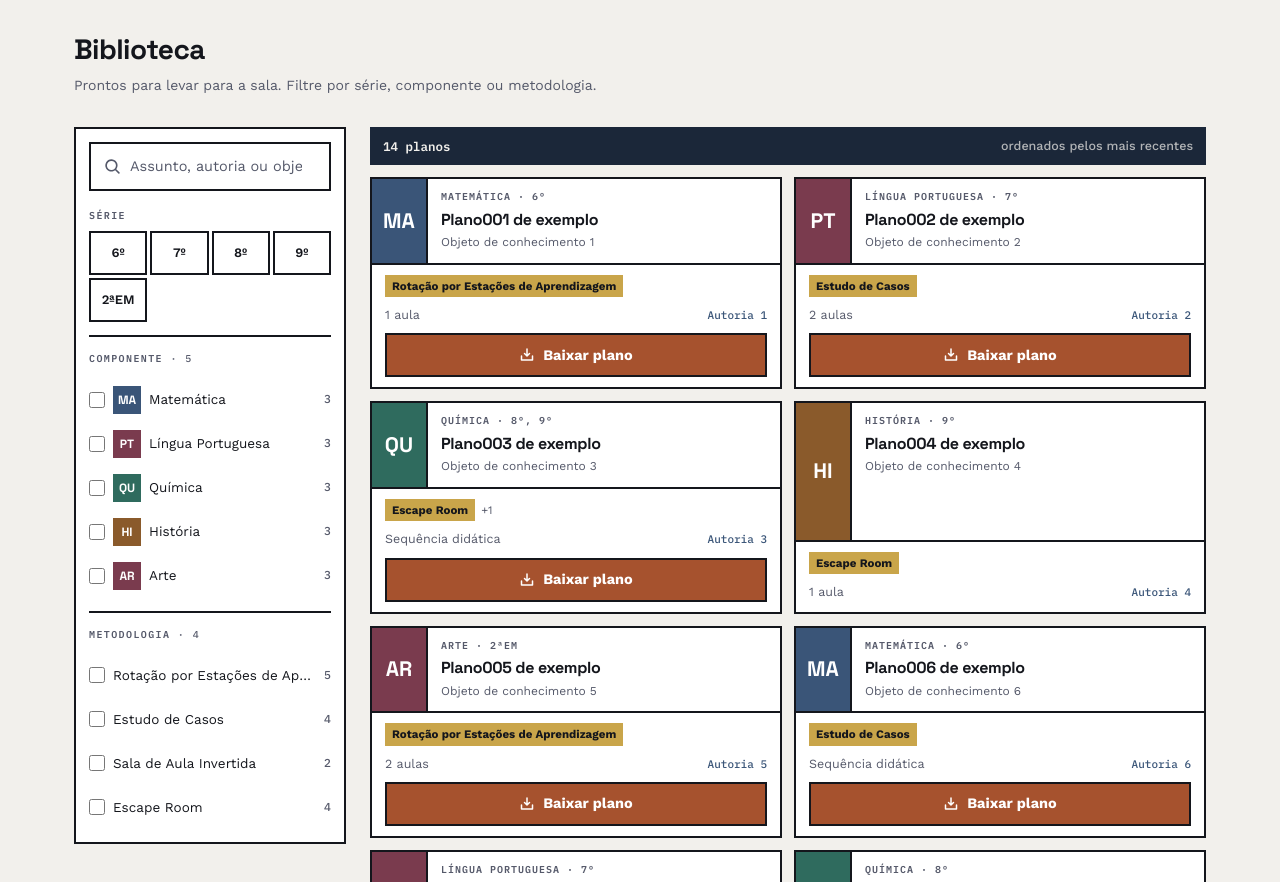
Scenario: PaginaBiblioteca › filtrar por DUAS séries traz o plano de qualquer uma das duas (OU dentro do grupo)
Expected: the text "14 planos" is shown, x1=383 y1=137 x2=450 y2=155
Click the button named "6º ano do Ensino Fundamental" at point(118, 253), box x1=89 y1=231 x2=147 y2=275
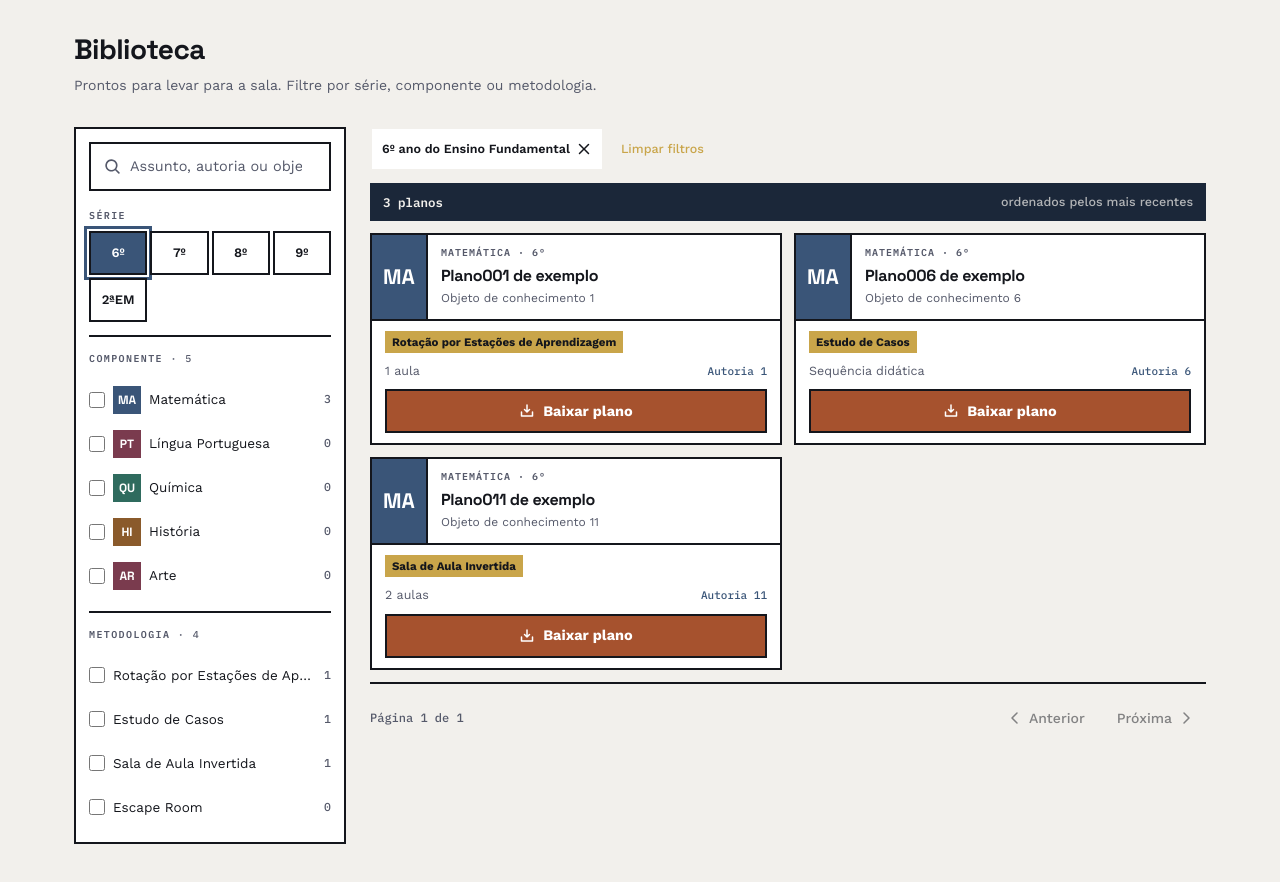
Click the button named "7º ano do Ensino Fundamental" at point(179, 253), box x1=150 y1=231 x2=209 y2=275
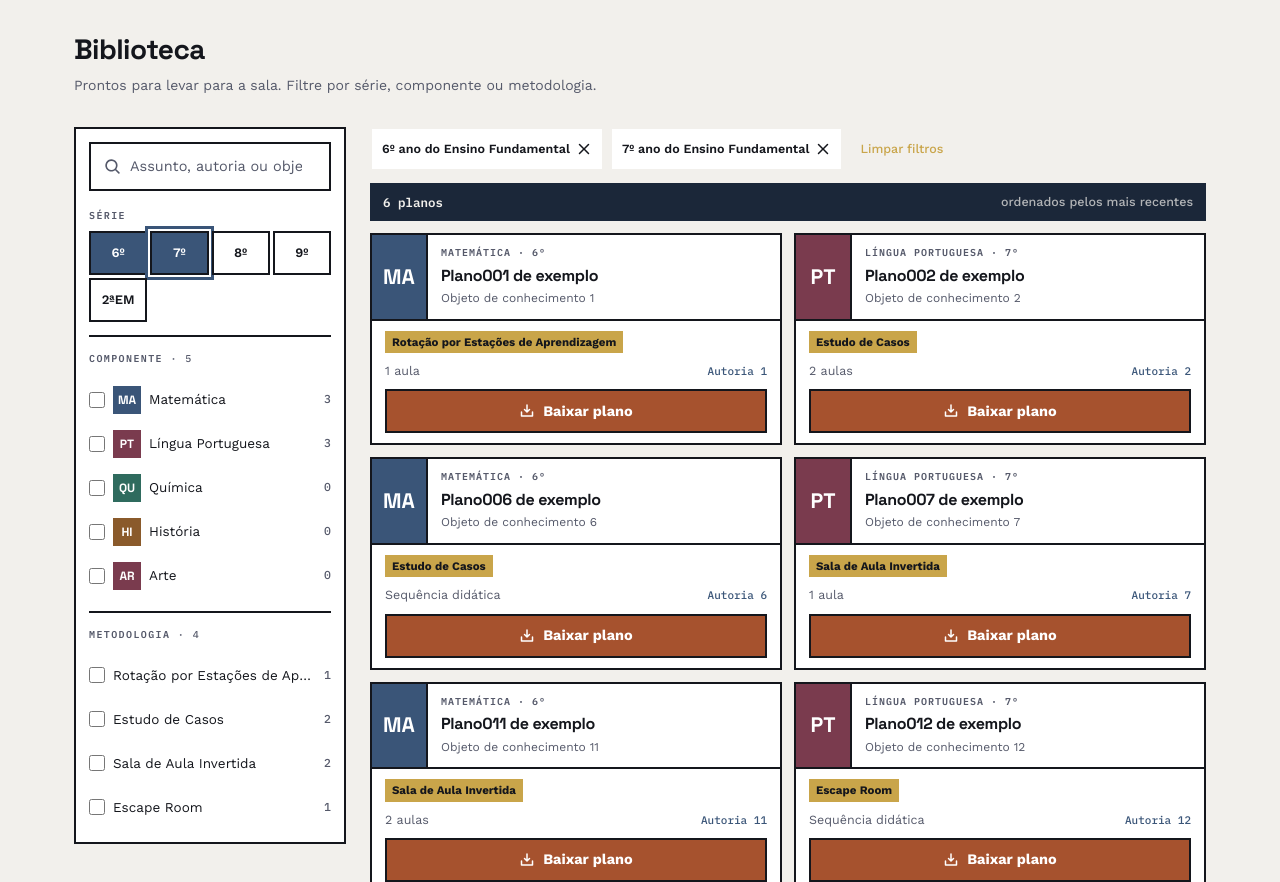
Result: the text "6 planos" is shown at x1=383 y1=193 x2=443 y2=211
